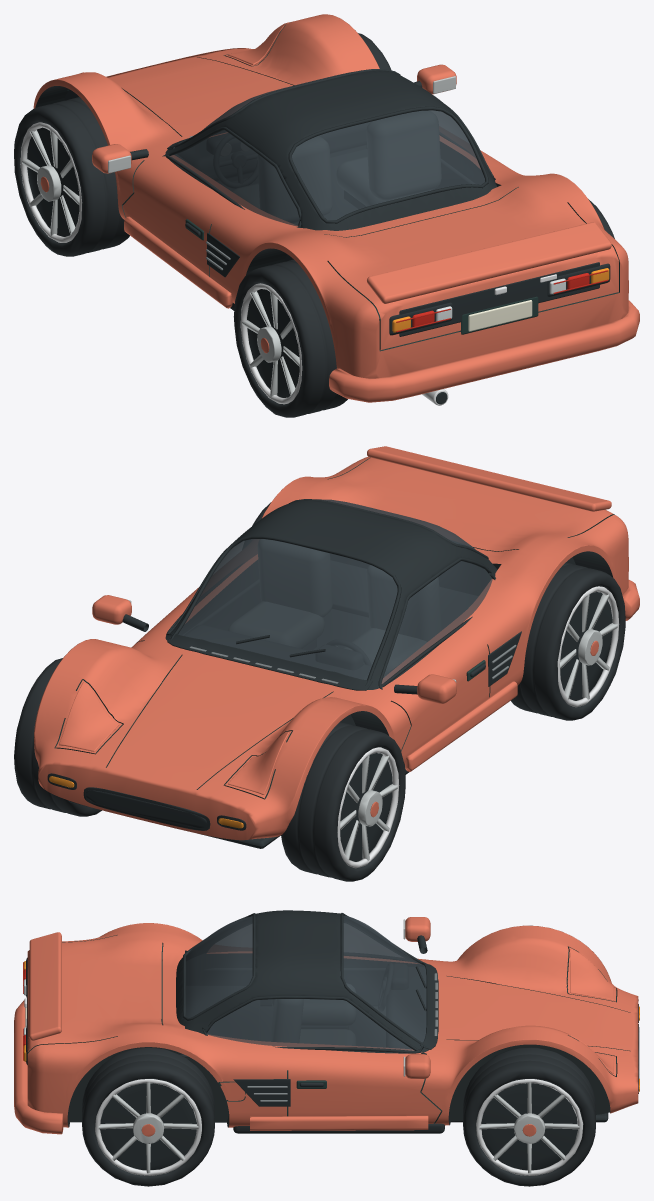
File: shiro_lod1.fbx
3 views of the same model, one above another, from view 1: azimuth 30°, elevation 25°; view 2: azimuth 150°, elevation 25°; view 3: azimuth 270°, elevation 25° (orthographic). The views are drawn at different scales.
Parts seen in each view (by area): view 1: Body, Wheel_FL_Mesh, Wheel_RL_Mesh; view 2: Body, Wheel_FL_Mesh, Wheel_RL_Mesh, Wheel_FR_Mesh; view 3: Body, Wheel_FR_Mesh, Wheel_RR_Mesh.
Part boxes in pixels (x1,y1,x2,y2): Body: [33, 14, 639, 405]; Wheel_FL_Mesh: [14, 97, 129, 256]; Wheel_RL_Mesh: [233, 259, 347, 417]; Body: [34, 446, 639, 848]; Wheel_FL_Mesh: [281, 722, 405, 881]; Wheel_RL_Mesh: [511, 562, 625, 720]; Wheel_FR_Mesh: [14, 658, 101, 816]; Body: [14, 910, 639, 1134]; Wheel_FR_Mesh: [463, 1047, 595, 1186]; Wheel_RR_Mesh: [82, 1047, 214, 1186].
Size of the model in its own units: 235 by 136 by 414.
